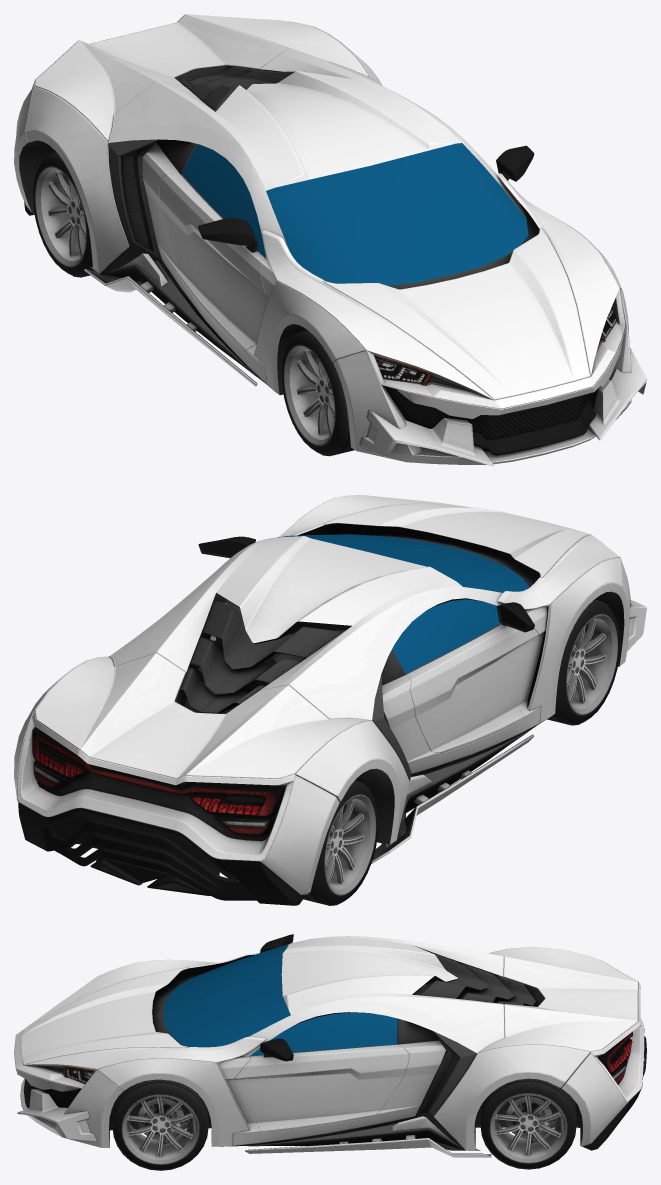
Rendered from Car28.fbx.
3 views of the same model, one above another, from view 1: azimuth 30°, elevation 25°; view 2: azimuth 150°, elevation 25°; view 3: azimuth 270°, elevation 25° (orthographic). The views are drawn at different scales.
Visible parts, largest first — view 1: Body, Front_Glass_, Roof, Hood, BumperF, Trunk, DC4_Sport_1_Door_R, DC4_Sport_1_Mudguard_BR, DC4_Sport_1_Mudguard_FR, DC4_Sport_1_Sidepanel_R_3, Metal_1, Metal (+7 smaller); view 2: Body, Trunk, Roof, BumperB, DC4_Sport_1_Door_R, Hood, DC4_Sport_1_Mudguard_BR, Front_Glass_, DC4_Sport_1_Mudguard_FR, DC4_Sport_1_Glass_R, Metal, Metal_1 (+7 smaller); view 3: Body, Roof, DC4_Sport_1_Door_R_1, Trunk, Front_Glass_, Hood, DC4_Sport_1_Mudguard_BR_1, BumperF, DC4_Sport_1_Mudguard_FR_1, DC4_Sport_1_Sidepanel_R_3__1_, DC4_Sport_1_Glass_R_1, BumperB (+8 smaller).
Boxes of the visible parts, x1=… form: Body: x1=19, y1=14, x2=625, y2=446; Front_Glass_: x1=266, y1=143, x2=528, y2=285; Roof: x1=177, y1=68, x2=526, y2=260; Hood: x1=323, y1=228, x2=590, y2=400; BumperF: x1=333, y1=288, x2=646, y2=466; Trunk: x1=35, y1=14, x2=369, y2=141; DC4_Sport_1_Door_R: x1=159, y1=174, x2=268, y2=350; DC4_Sport_1_Mudguard_BR: x1=25, y1=86, x2=129, y2=273; DC4_Sport_1_Mudguard_FR: x1=254, y1=281, x2=365, y2=394; DC4_Sport_1_Sidepanel_R_3: x1=84, y1=253, x2=257, y2=386; Metal_1: x1=284, y1=346, x2=334, y2=444; Metal: x1=35, y1=167, x2=86, y2=266; Body: x1=17, y1=495, x2=624, y2=893; Trunk: x1=35, y1=653, x2=370, y2=778; Roof: x1=178, y1=536, x2=503, y2=655; BumperB: x1=14, y1=711, x2=339, y2=905; DC4_Sport_1_Door_R: x1=405, y1=623, x2=538, y2=753; Hood: x1=324, y1=504, x2=590, y2=577; DC4_Sport_1_Mudguard_BR: x1=295, y1=720, x2=409, y2=844; Front_Glass_: x1=278, y1=534, x2=528, y2=592; DC4_Sport_1_Mudguard_FR: x1=529, y1=558, x2=622, y2=722; DC4_Sport_1_Glass_R: x1=392, y1=599, x2=500, y2=673; Metal: x1=325, y1=795, x2=375, y2=894; Metal_1: x1=567, y1=615, x2=617, y2=714; Body: x1=14, y1=941, x2=644, y2=1150; Roof: x1=241, y1=936, x2=457, y2=1056; DC4_Sport_1_Door_R_1: x1=234, y1=1044, x2=409, y2=1132; Trunk: x1=479, y1=947, x2=638, y2=1052; Front_Glass_: x1=163, y1=943, x2=290, y2=1047; Hood: x1=21, y1=967, x2=188, y2=1064; DC4_Sport_1_Mudguard_BR_1: x1=433, y1=1045, x2=590, y2=1150; BumperF: x1=14, y1=1035, x2=123, y2=1147; DC4_Sport_1_Mudguard_FR_1: x1=98, y1=1058, x2=249, y2=1146; DC4_Sport_1_Sidepanel_R_3__1_: x1=245, y1=1116, x2=491, y2=1157; DC4_Sport_1_Glass_R_1: x1=250, y1=1012, x2=397, y2=1055; BumperB: x1=561, y1=1028, x2=646, y2=1150.
Bounding box in the file's own units: 356 × 217 × 782.
